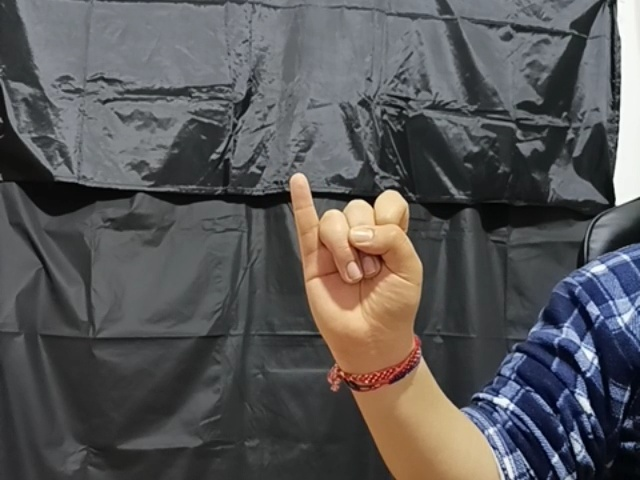I: (287, 169, 430, 352)
